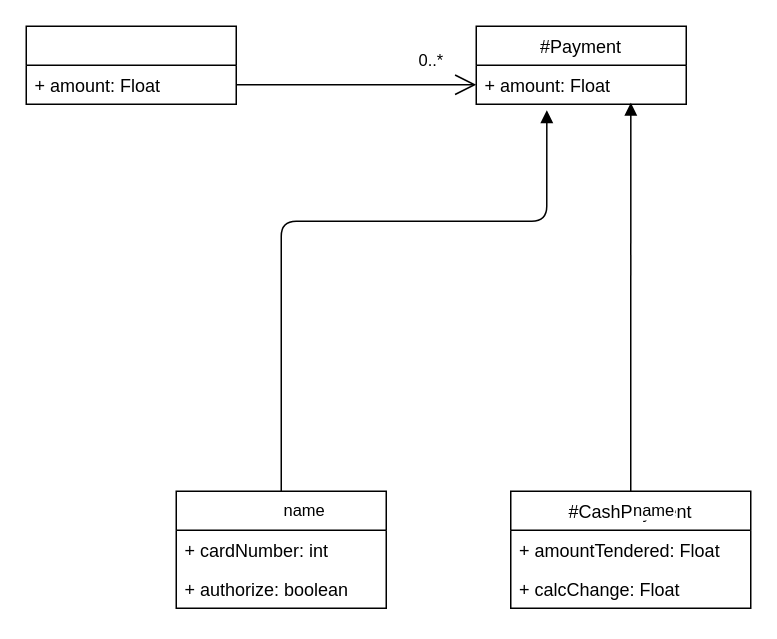
The diagram is 777 pixels wide and 639 high, and some of its shapes have lost their labels. The box of each missing label's shape, as (x1, y1, x2, y2) in pixels:
#CreditCardPayment: (175, 490, 386, 608)
#Sale: (25, 25, 236, 104)
